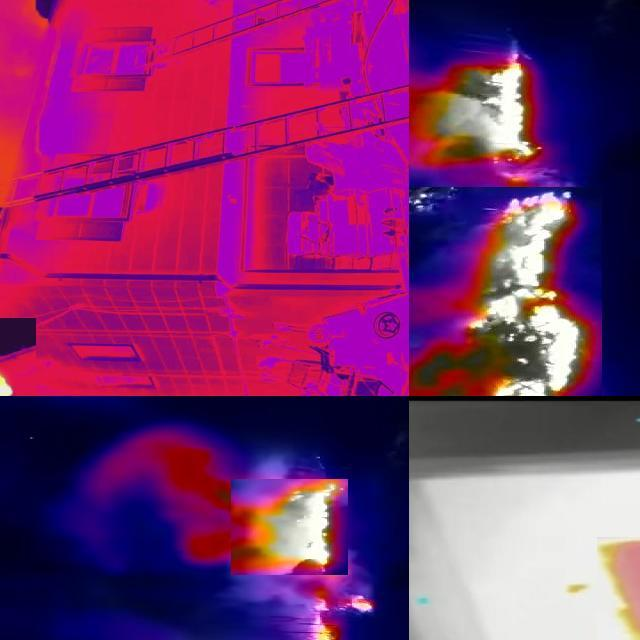fire: (410, 187, 603, 397), (410, 43, 550, 166), (232, 479, 349, 575), (598, 537, 640, 640), (300, 590, 374, 640)
